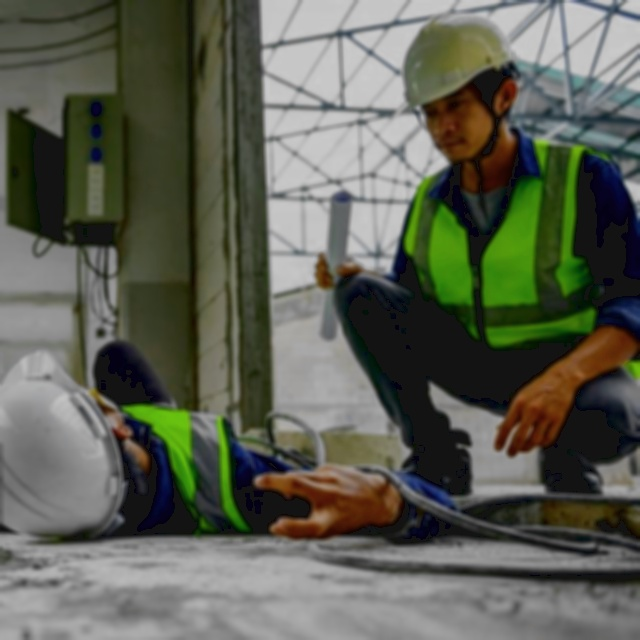Con_Casco: (0, 350, 127, 543), (400, 13, 518, 164)
Con_Chaleco: (395, 141, 627, 380)
